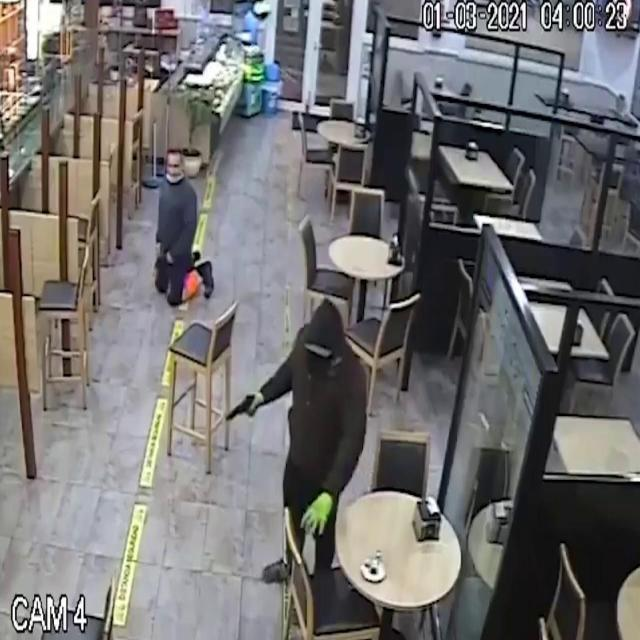Gun: (216, 379, 266, 438)
